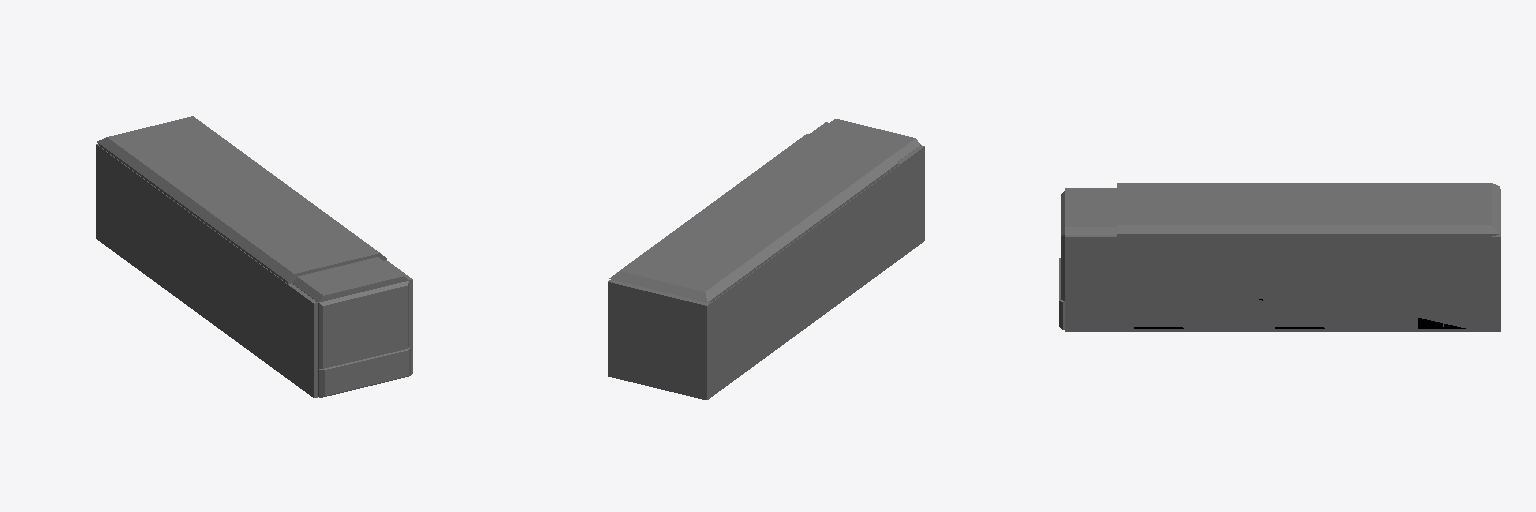
The model's file is densya.obj.
3 views of the same model, side by side, from view 1: azimuth 30°, elevation 25°; view 2: azimuth 150°, elevation 25°; view 3: azimuth 270°, elevation 25° (orthographic).
Size of the model in its own units: 7.09 by 7.09 by 27.38.